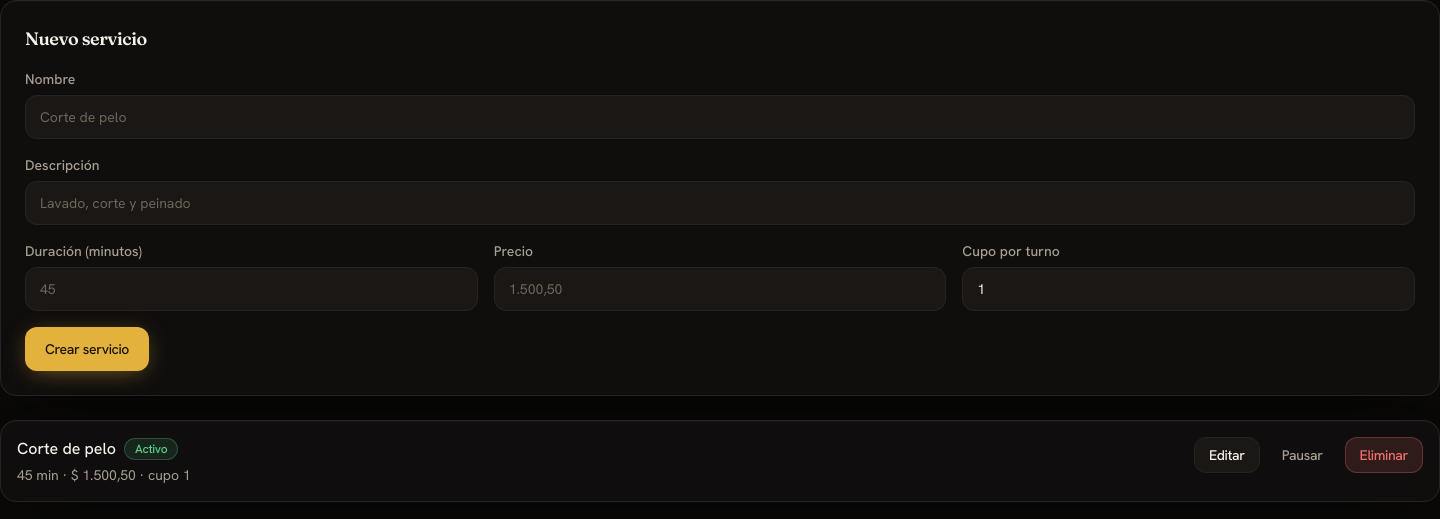
Scenario: ServicesManager › loads the picked service into the form when editing
Click the button "Editar" at coordinates (1227, 455), box [1194, 437, 1260, 473]
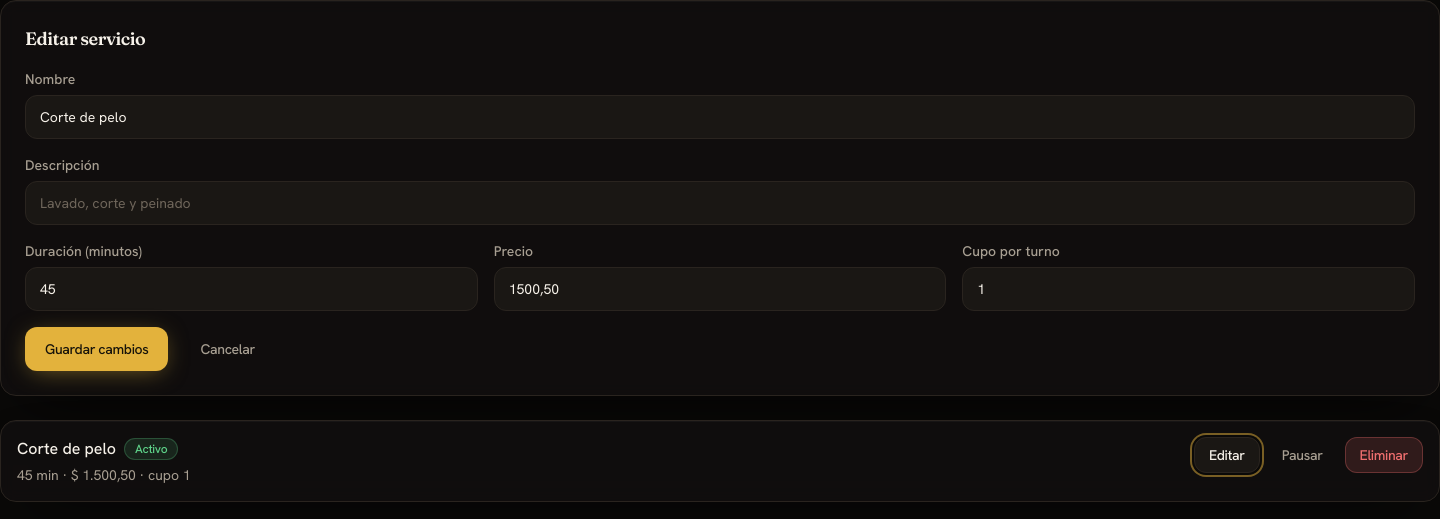
Now the heading "Editar servicio" is shown, box [25, 27, 145, 50]
Now the field labelled "Nombre" holds "Corte de pelo", box [25, 95, 1415, 139]
